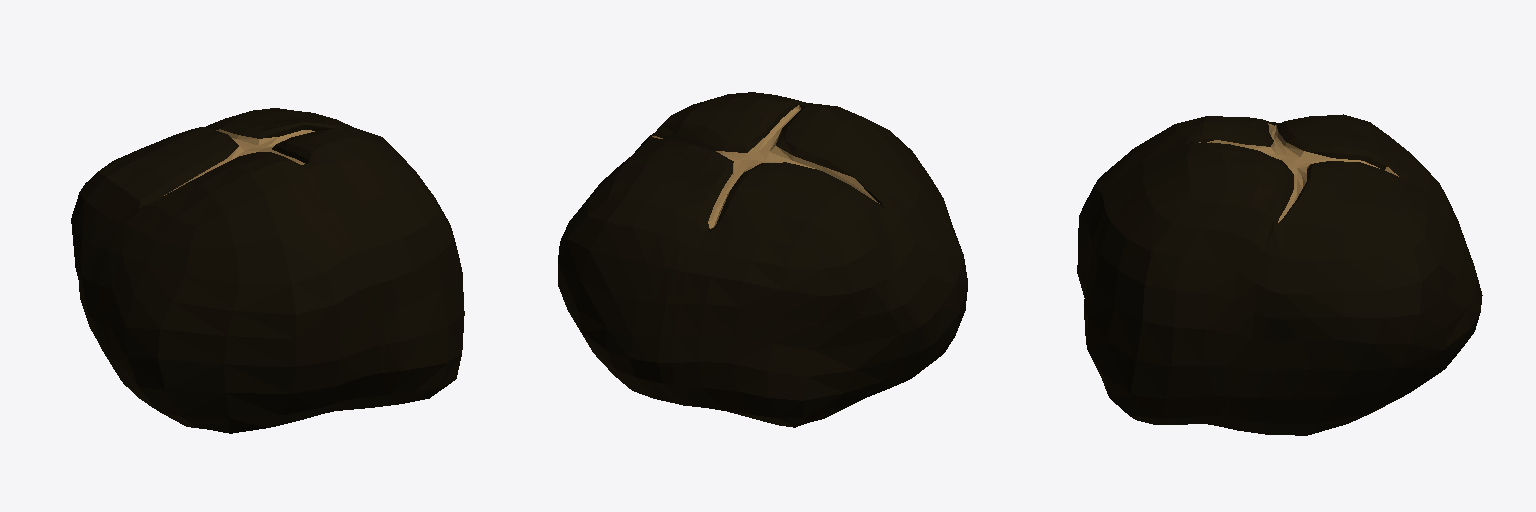
The model's file is prop_bread1.obj.
3 views of the same model, side by side, from view 1: azimuth 30°, elevation 25°; view 2: azimuth 150°, elevation 25°; view 3: azimuth 270°, elevation 25° (orthographic).
Parts seen in each view (by area): view 1: pCube1; view 2: pCube1; view 3: pCube1.
Boxes of the visible parts, x1=… form: pCube1: x1=71, y1=108, x2=464, y2=433; pCube1: x1=558, y1=92, x2=967, y2=427; pCube1: x1=1077, y1=114, x2=1482, y2=435.
Size of the model in its own units: 2.8 by 2.1 by 3.07.